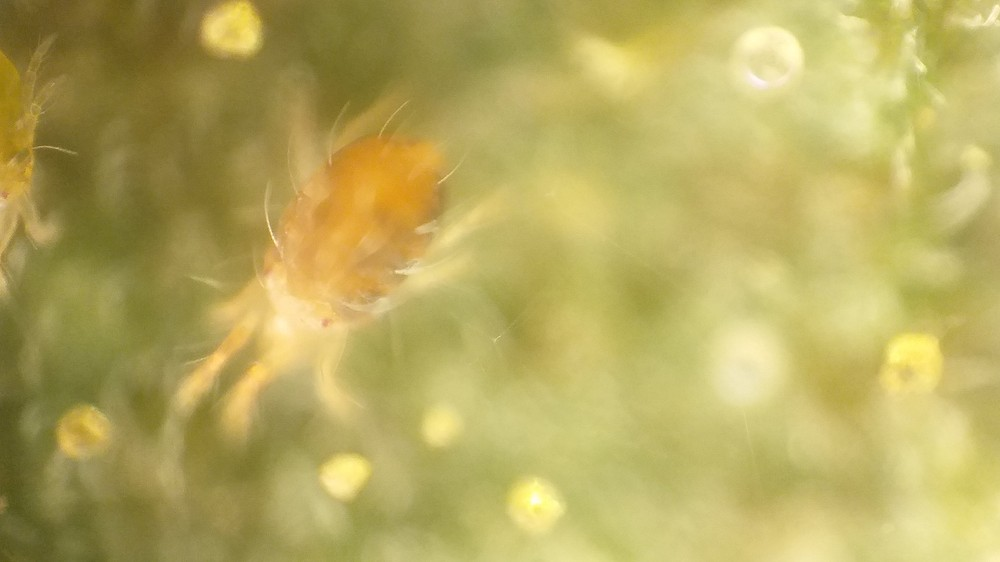Aracnido Rojo: (154, 103, 492, 442)
